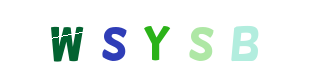B: (170, 0, 250, 80)
S: (74, 0, 154, 80), (123, 0, 203, 80)
W: (26, 0, 106, 80)
Y: (106, 0, 186, 80)
